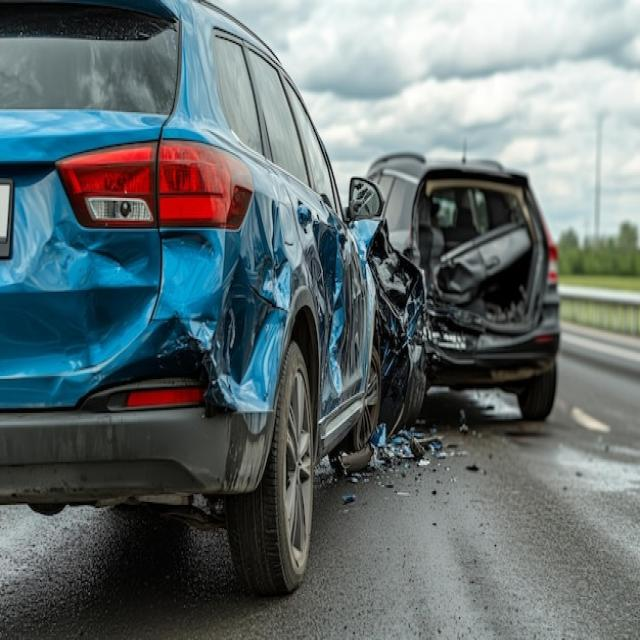Accident: (0, 6, 564, 585)
